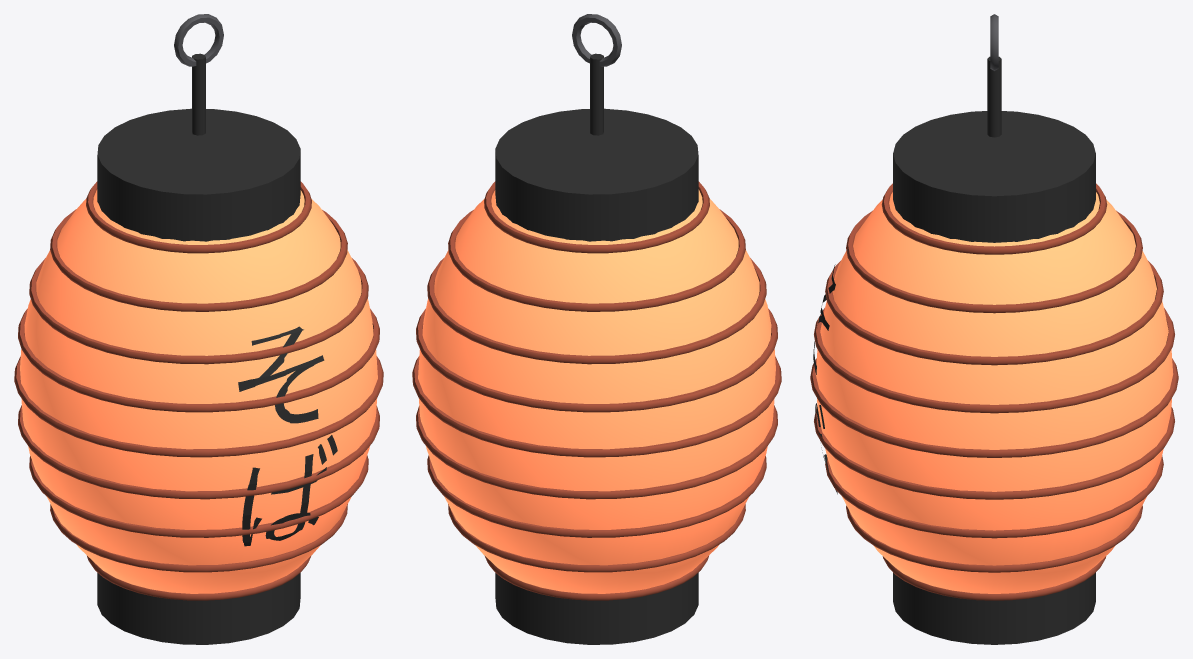
Rendered from Prop_Lantern.fbx.
3 renders of one model, left to right at view 1: azimuth 30°, elevation 25°; view 2: azimuth 150°, elevation 25°; view 3: azimuth 270°, elevation 25°, orthographic.
Visible parts, largest first — view 1: Lantern_Body, Lantern_Frame, Lantern_Text; view 2: Lantern_Body, Lantern_Frame; view 3: Lantern_Body, Lantern_Frame.
Boxes of the visible parts, x1,y1,x2,y2 form: Lantern_Body: (20,189,377,593); Lantern_Frame: (14,14,383,644); Lantern_Text: (238,326,337,546); Lantern_Body: (418,189,775,593); Lantern_Frame: (412,14,781,644); Lantern_Body: (815,192,1173,593); Lantern_Frame: (810,14,1178,644).
Size of the model in its own units: 0.309 by 0.5415 by 0.309.
